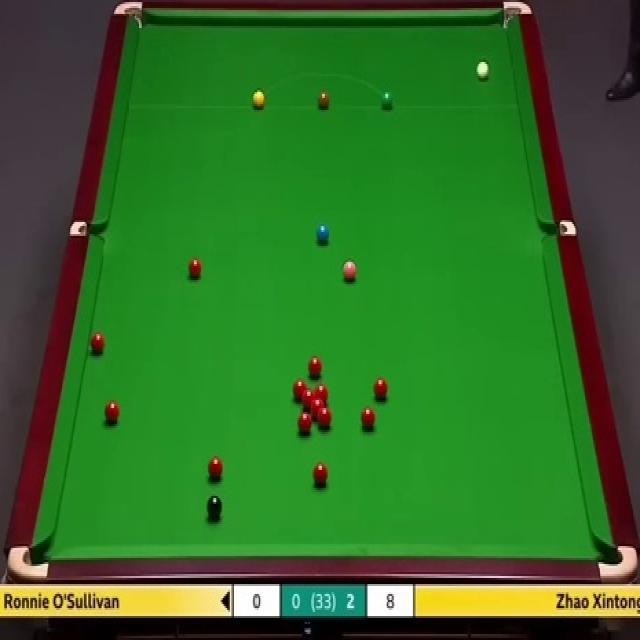pocket: (597, 538, 640, 584), (6, 543, 51, 583), (498, 0, 532, 34), (114, 0, 146, 32), (539, 217, 576, 238), (68, 220, 107, 237)
